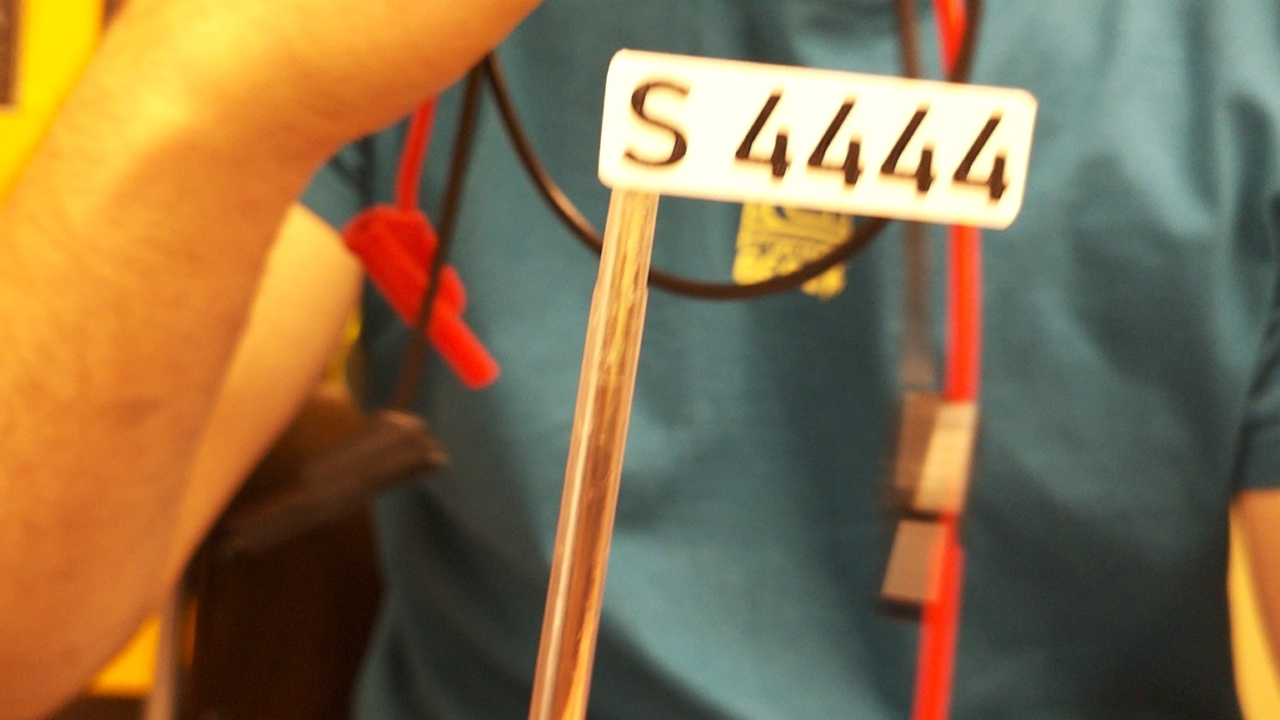license_plate: (594, 44, 1040, 231)
